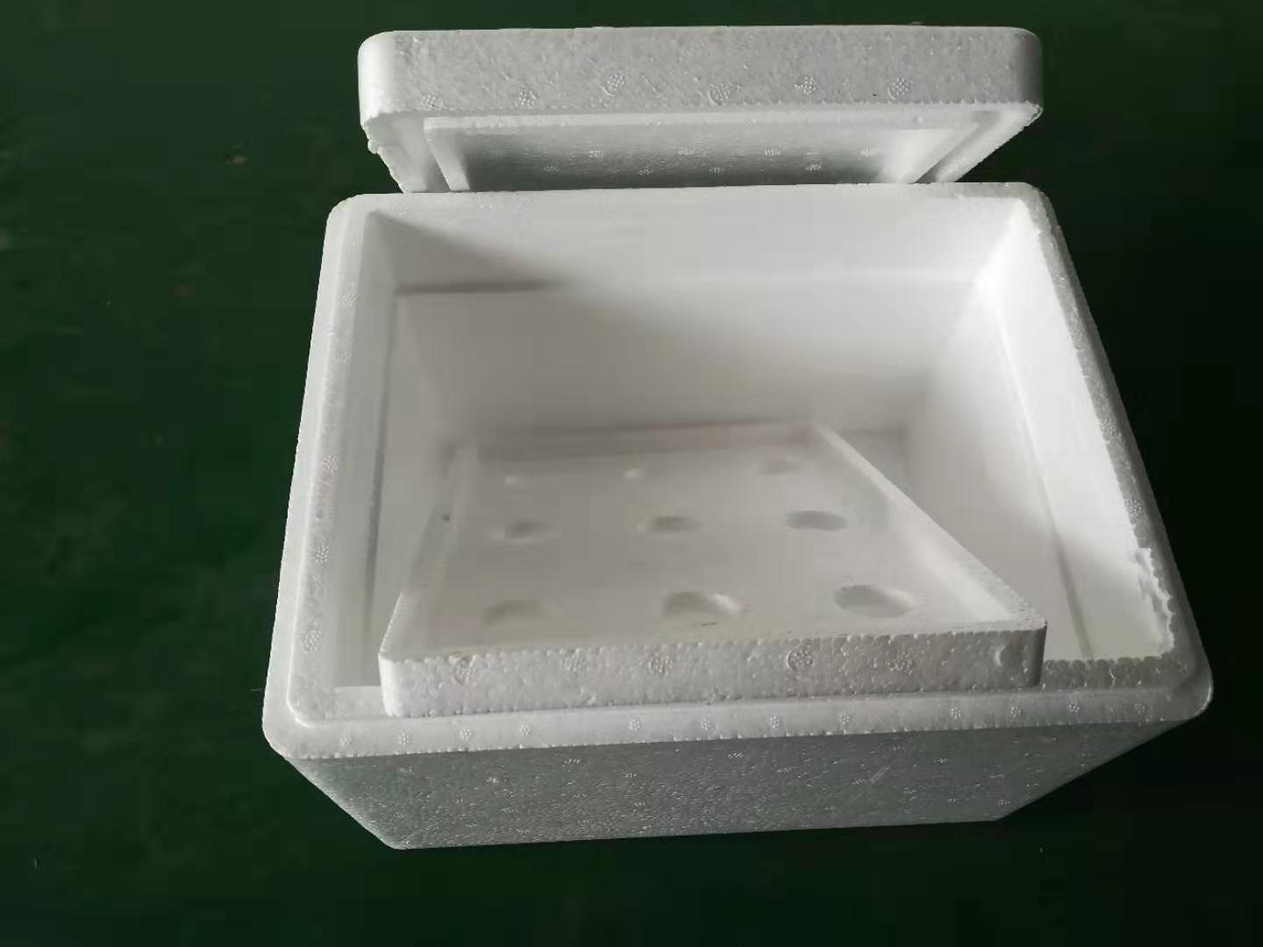泡沫箱: (263, 26, 1211, 848)
